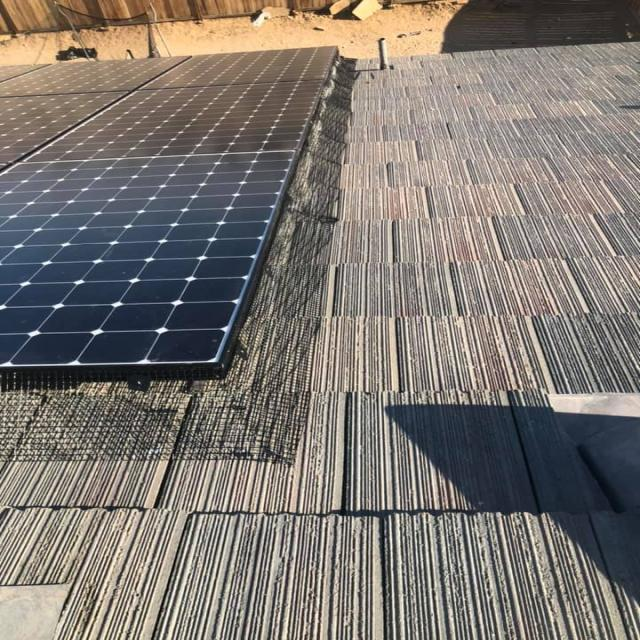clean-solar-panel: (0, 48, 335, 371)
